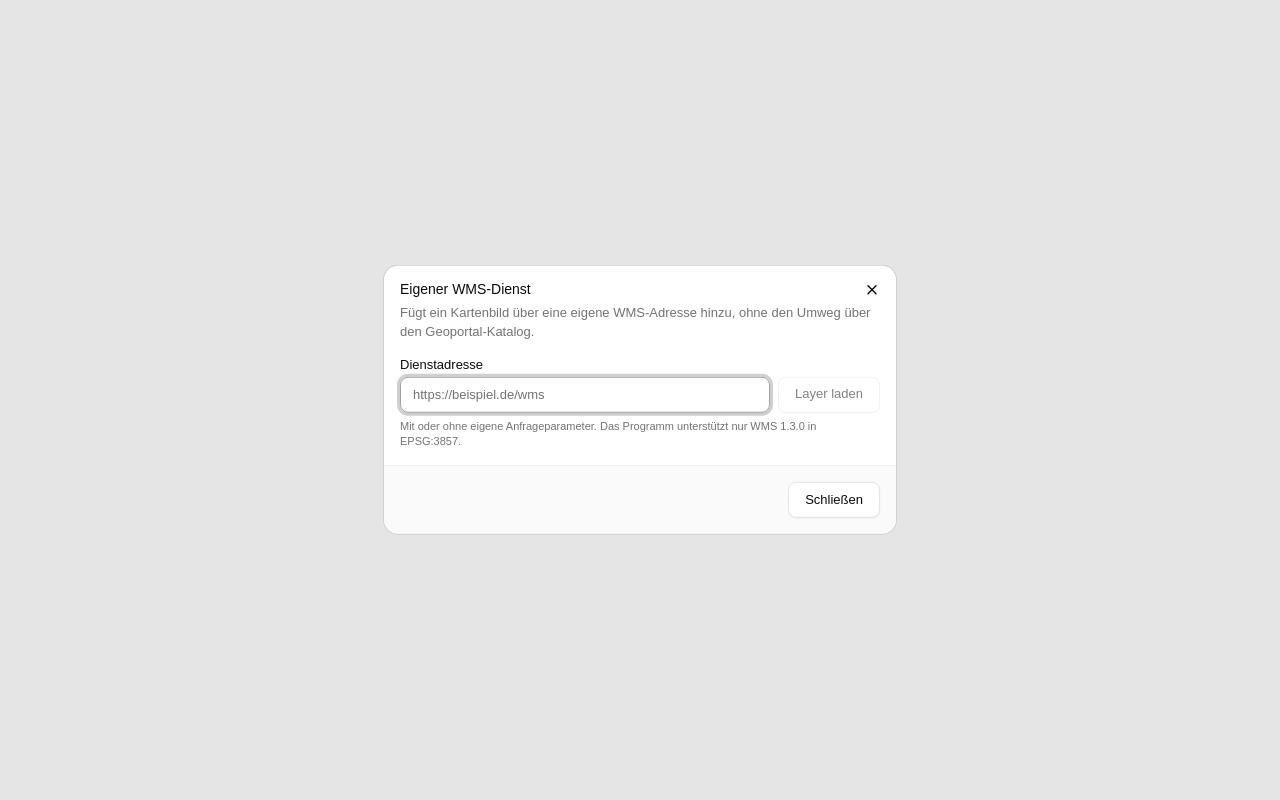
it: AddMapImageDialog › fragt die Dienstbeschreibung erst ab, wenn "Layer laden" gedrückt wird
The image size is (1280, 800).
No request yet -- typing alone must not cost the target service a round trip.
Type "https://example.org/wms" into the field labelled "Dienstadresse". click: (585, 394)
box: [400,376,770,412]
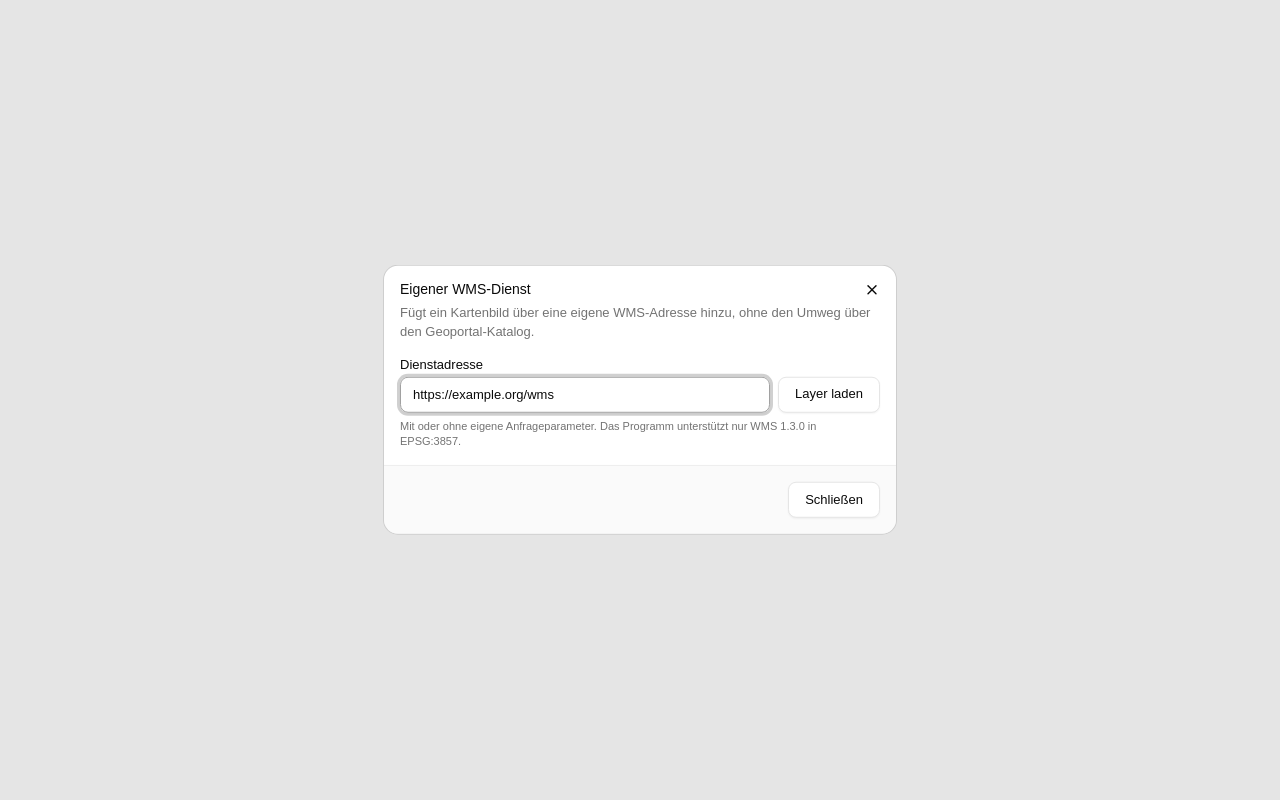
Click the button "Layer laden". click: (829, 394)
box: [778,376,880,412]
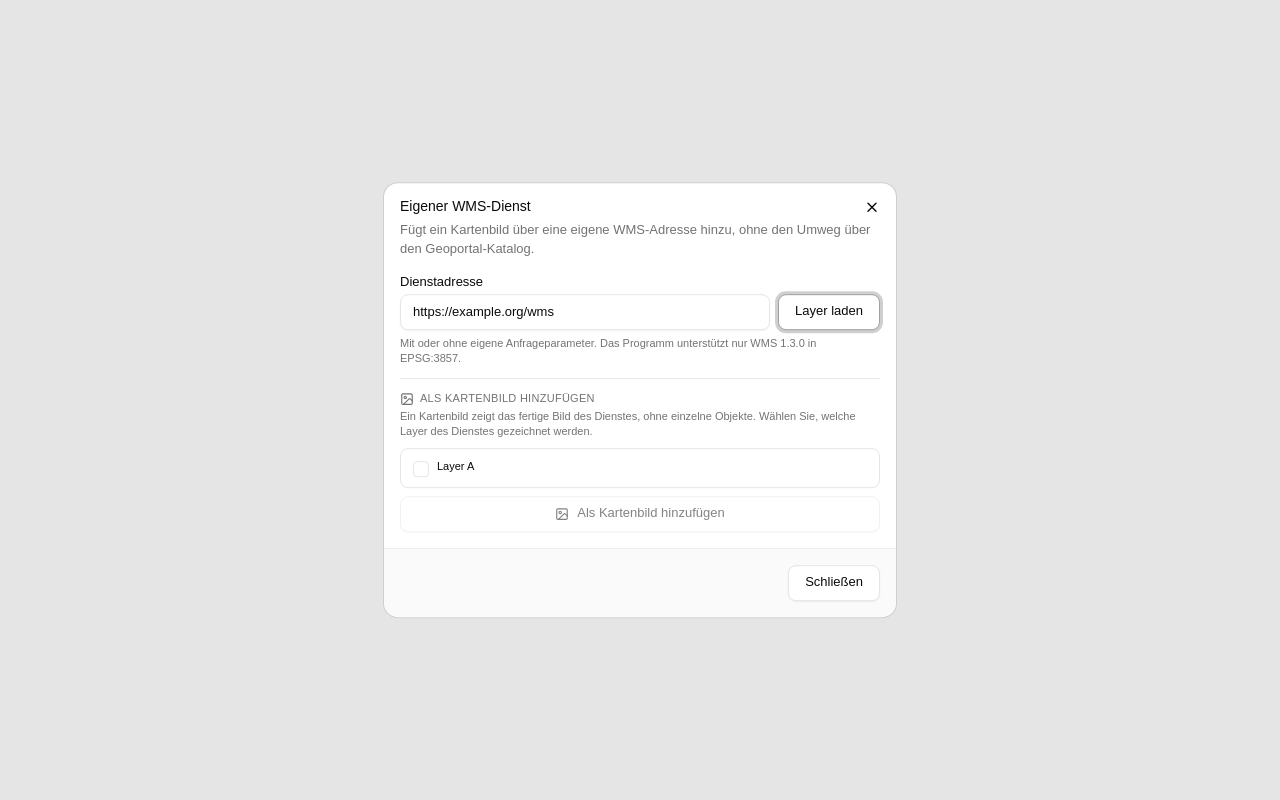
Expected: the text "Layer A" is shown, [437,460,474,472]
